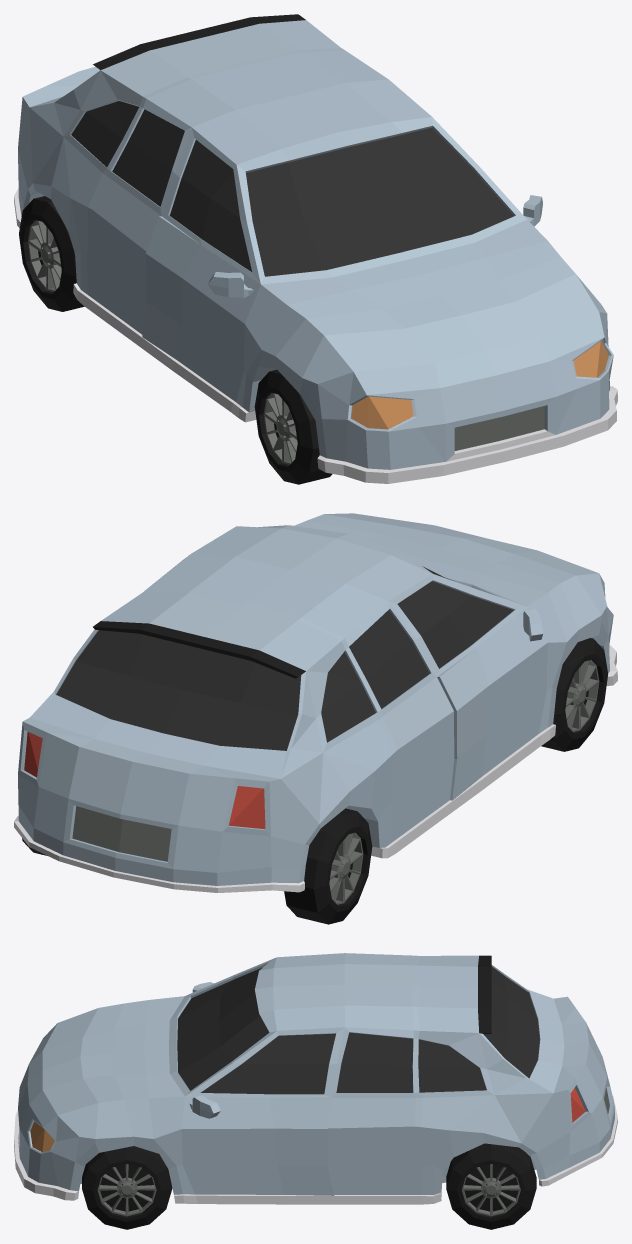
Rendered from quaternius-realistic-car-normalcar-2.glb.
3 views of the same model, one above another, from view 1: azimuth 30°, elevation 25°; view 2: azimuth 150°, elevation 25°; view 3: azimuth 270°, elevation 25° (orthographic). The views are drawn at different scales.
Parts seen in each view (by area): view 1: NormalCar2, NormalCar2_BackWheels; view 2: NormalCar2, NormalCar2_BackWheels; view 3: NormalCar2, NormalCar2_BackWheels.
Boxes of the visible parts, <box> form: NormalCar2: <box>14,14,617,483</box>; NormalCar2_BackWheels: <box>19,196,332,484</box>; NormalCar2: <box>14,513,617,892</box>; NormalCar2_BackWheels: <box>22,638,607,924</box>; NormalCar2: <box>14,953,617,1204</box>; NormalCar2_BackWheels: <box>82,1143,536,1229</box>.
Size of the model in its own units: 1.64 by 1.15 by 3.31.
2 materials, 2 textured.
